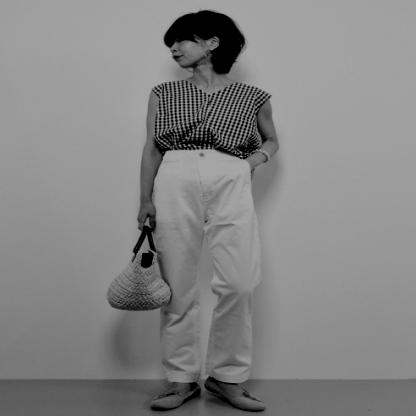dress: (154, 149, 259, 381)
jacket: (152, 78, 272, 156)
